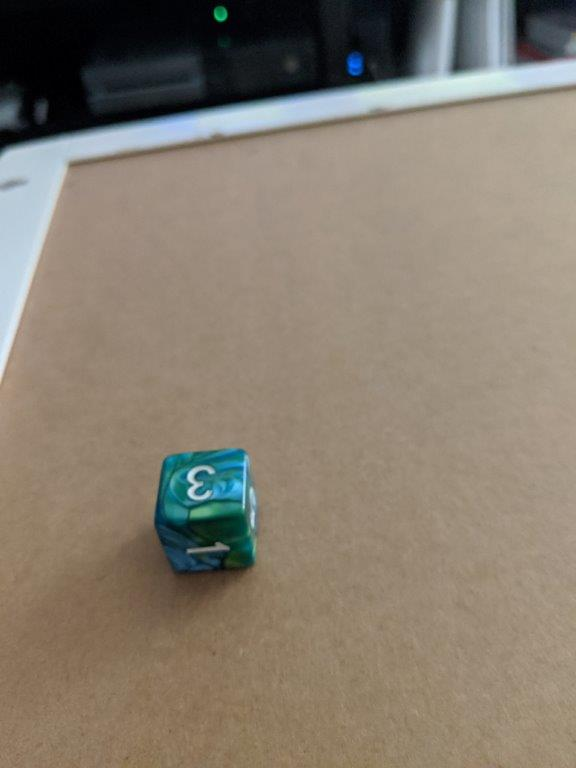d6-3: (152, 447, 259, 575)
